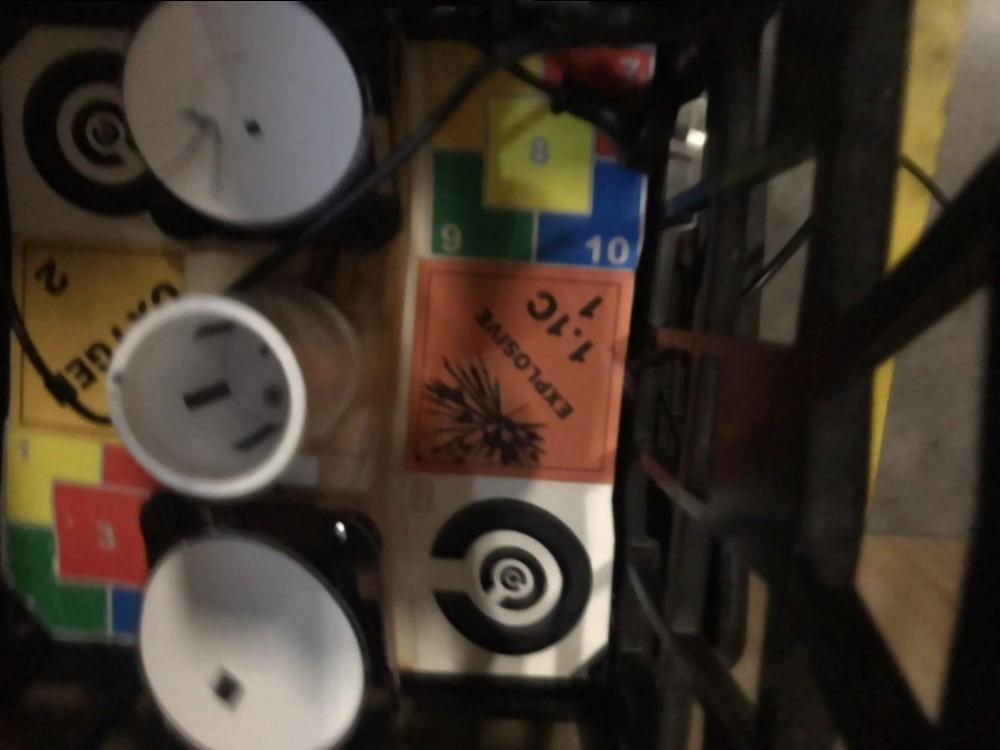explosive: (405, 258, 635, 486)
